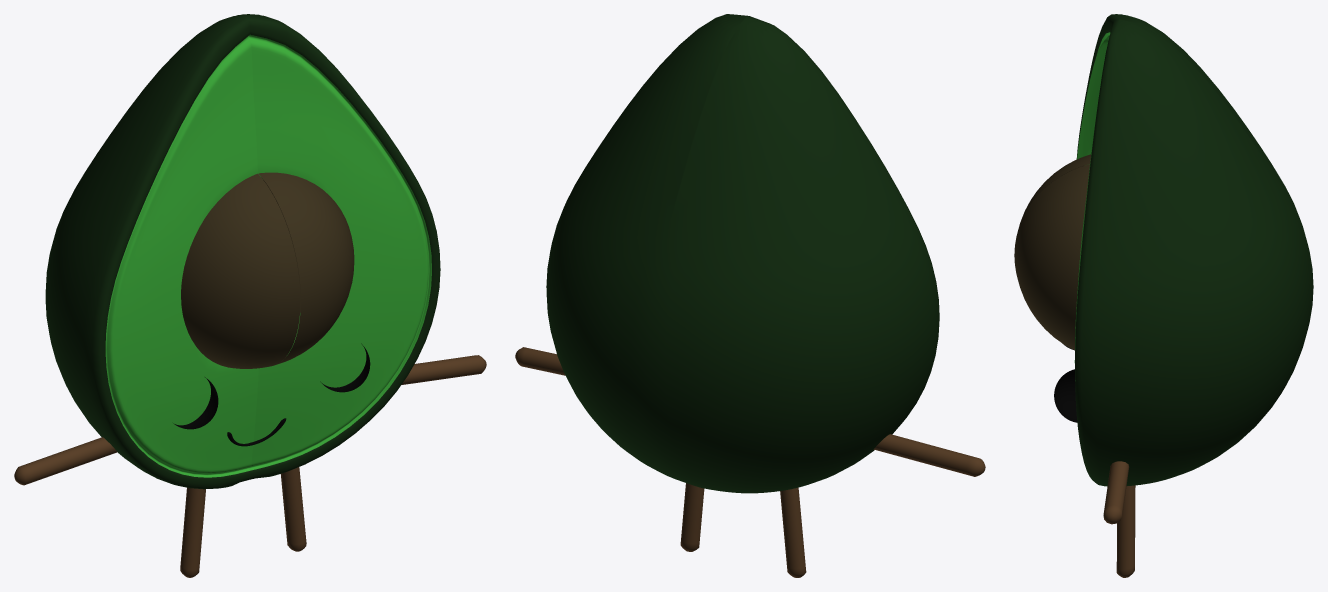
Rendered from avocado.fbx.
3 views of the same model, side by side, from view 1: azimuth 30°, elevation 25°; view 2: azimuth 150°, elevation 25°; view 3: azimuth 270°, elevation 25° (orthographic). The views are drawn at different scales.
Parts seen in each view (by area): view 1: Body, Arms, Legs; view 2: Body, Arms, Legs; view 3: Body, Legs, Arms.
Boxes of the visible parts, left/top/right/bottom form: Body: left=45, top=14, right=440, bottom=489; Arms: left=14, top=355, right=486, bottom=485; Legs: left=180, top=467, right=306, bottom=577; Body: left=546, top=14, right=939, bottom=493; Arms: left=515, top=347, right=985, bottom=476; Legs: left=680, top=483, right=806, bottom=577; Body: left=1014, top=14, right=1313, bottom=486; Legs: left=1116, top=485, right=1135, bottom=577; Arms: left=1103, top=461, right=1129, bottom=524.
Bounding box in the file's own units: 262 × 292 × 149.
